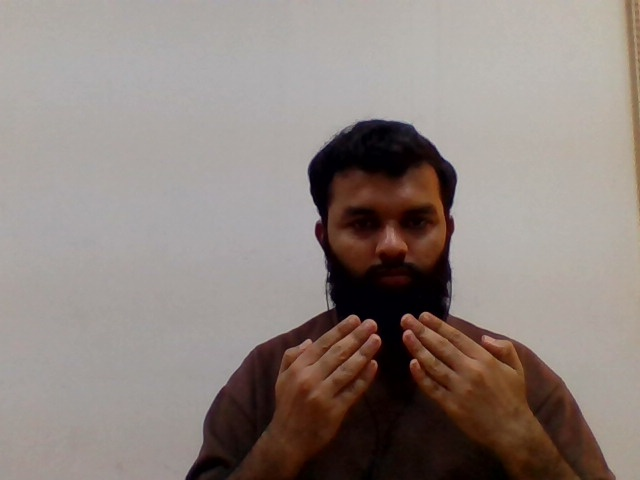Thank You: (252, 153, 558, 460)
